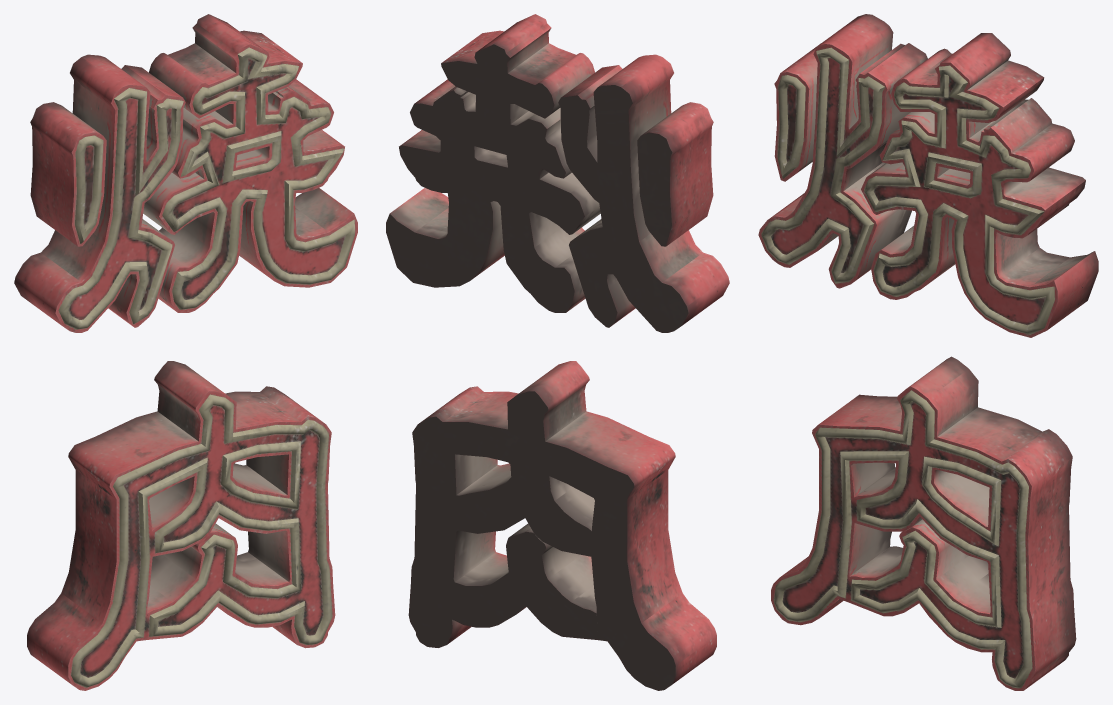
File: sign_text_yakiniku.fbx
The picture shows the model from 3 angles, left to right: view 1: azimuth 30°, elevation 25°; view 2: azimuth 150°, elevation 25°; view 3: azimuth 330°, elevation 25°; orthographic projection.
Parts seen in each view (by area): view 1: sign_text_yakiniku; view 2: sign_text_yakiniku; view 3: sign_text_yakiniku.
Boxes of the visible parts, left/top/right/bottom form: sign_text_yakiniku: left=14, top=14, right=357, bottom=690; sign_text_yakiniku: left=386, top=14, right=729, bottom=690; sign_text_yakiniku: left=758, top=14, right=1098, bottom=690.
Size of the model in its own units: 93.14 by 182 by 23.19.
Materials: 1 (1 with a texture image).
